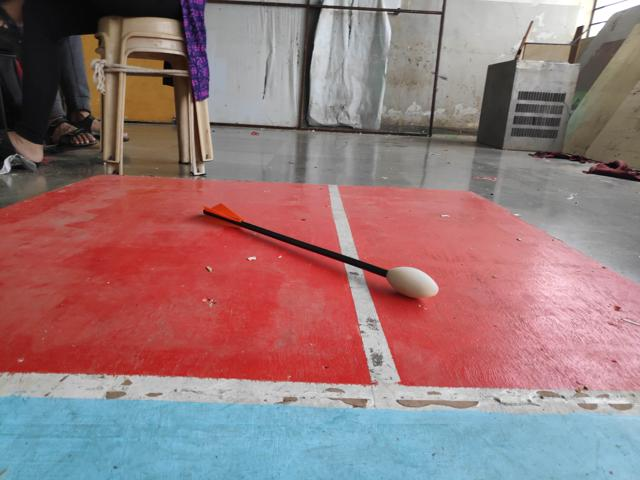Head: (384, 264, 441, 299)
